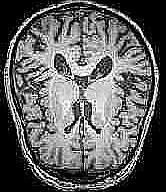Normal_Brain: (1, 1, 166, 192)
